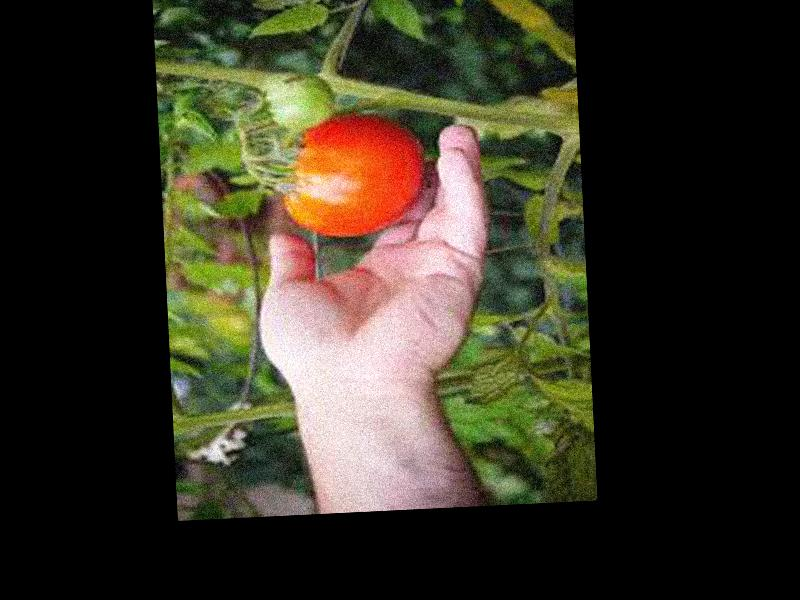Tomato: (276, 108, 427, 240)
